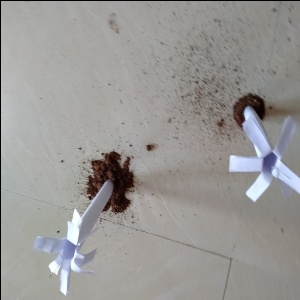weed: (38, 170, 123, 282), (230, 102, 300, 193)
